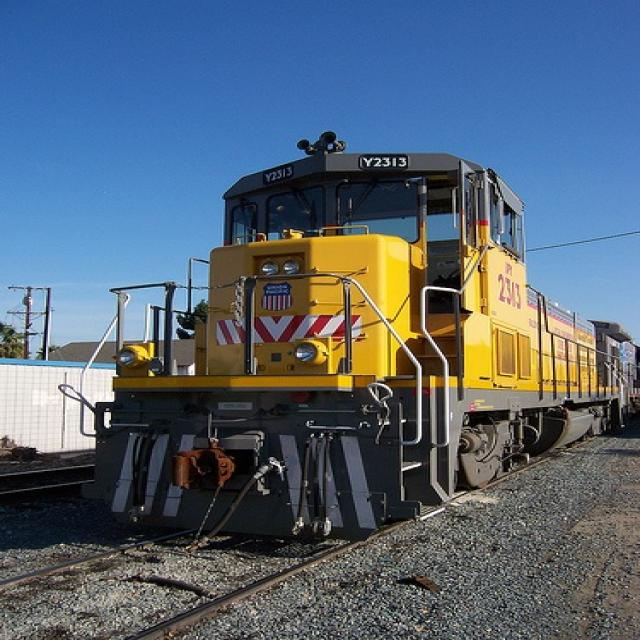train: (81, 131, 634, 543)
